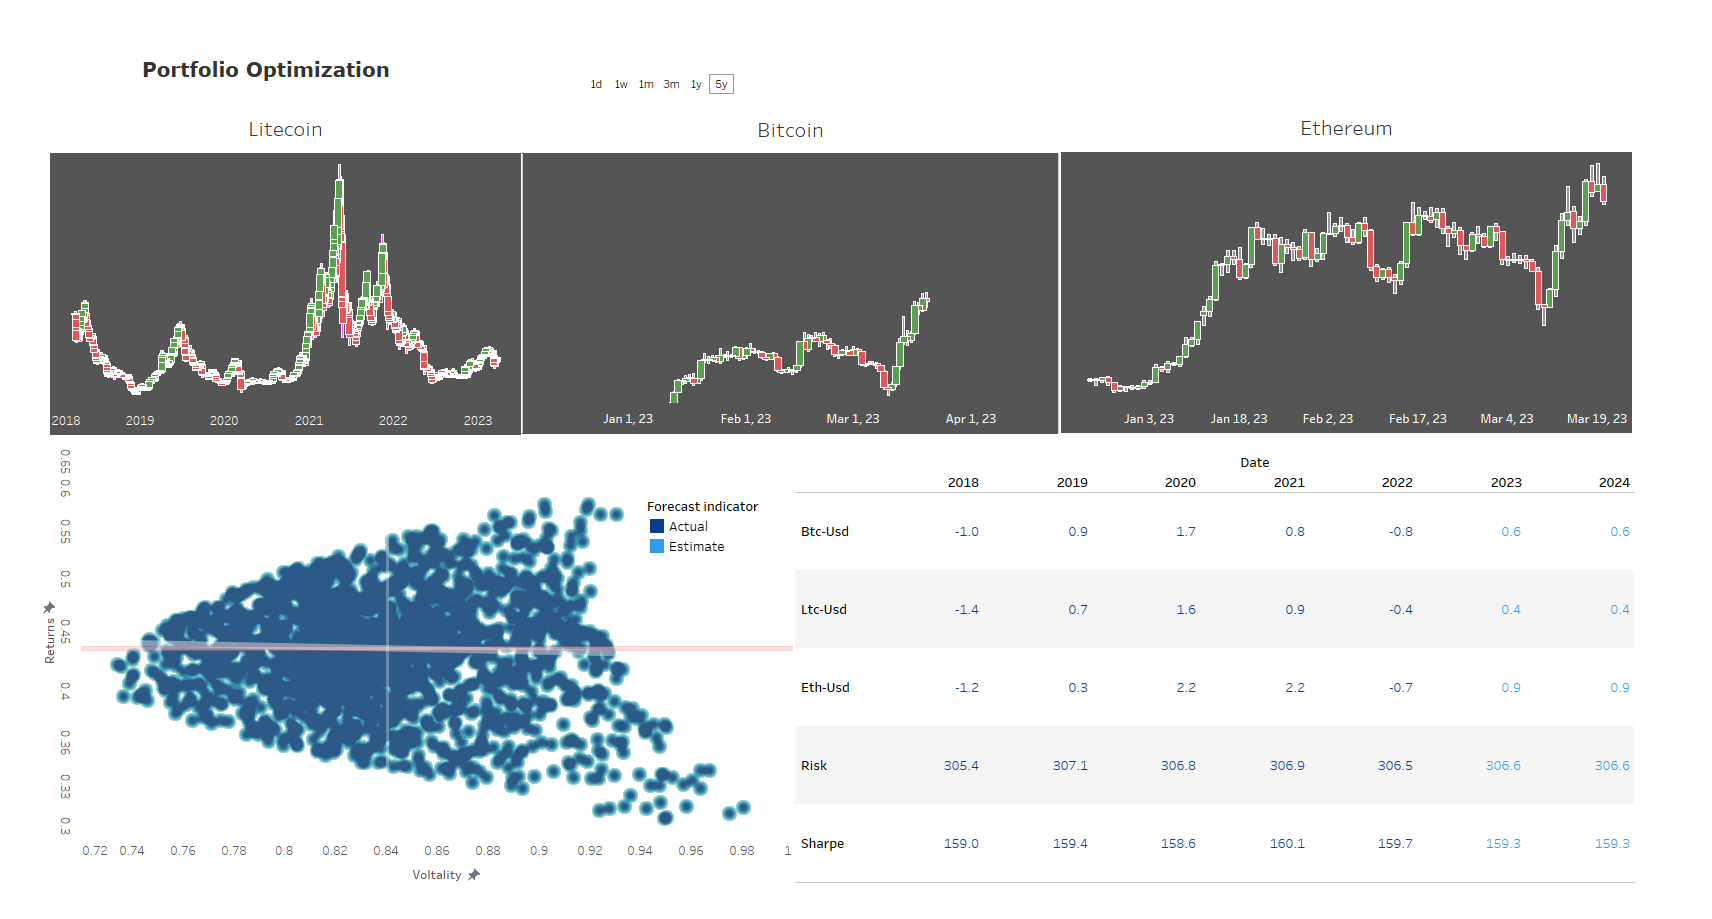

This screenshot's page, from the dashboard's own definition file:
{"tool":"tableau","page":{"name":"Dashboard 2","canvas":[1600,850],"ordinal":1},"visuals":[{"type":"worksheet","title":"Forcast","mark":"Area","rows":["BTC-USD","ETH-USD","LTC-USD"],"cols":["Date"],"box":[3,47,759,358]},{"type":"filter","title":"LTC","param":"[federated.1drorq61p46k9e19lt5330c8gbqs].[tdy:Date:qk]","box":[398,50,160,47]},{"type":"worksheet","title":"ETH","mark":"GanttBar","rows":["Open","High"],"cols":["Date"],"box":[763,51,821,274]},{"type":"worksheet","title":"LTC","mark":"GanttBar","rows":["Open","High"],"cols":["Date"],"box":[761,324,824,209]},{"type":"worksheet","title":"EF_Chart","mark":"Heatmap","rows":["Return"],"cols":["Risk"],"box":[2,405,760,429]},{"type":"filter","title":"BTC1","param":"[federated.0sgzb0z06xgf5b164xg8x0m1ba4y].[tdy:Date:qk]","box":[592,413,160,50]},{"type":"filter","title":"EF_Chart","param":"[federated.1hf1r4w07razz814rsnoo04155m0].[yr:Date:ok]","box":[55,415,94,51]},{"type":"worksheet","title":"BTC1","mark":"GanttBar","rows":["Open","High"],"cols":["Date"],"box":[761,531,826,302]}]}

Visuals, with their boxes in screenshot pixels (x1, y1, x2, y2), scaled from the page's 1600x850 canvas onto the 1712x919 screenshot:
"Forcast" worksheet (Area marks): 3 51 815 438
"LTC" filter: 426 54 597 105
"ETH" worksheet (GanttBar marks): 816 55 1695 351
"LTC" worksheet (GanttBar marks): 814 350 1696 576
"EF_Chart" worksheet (Heatmap marks): 2 438 815 902
"BTC1" filter: 633 447 805 501
"EF_Chart" filter: 59 449 159 504
"BTC1" worksheet (GanttBar marks): 814 574 1698 901
